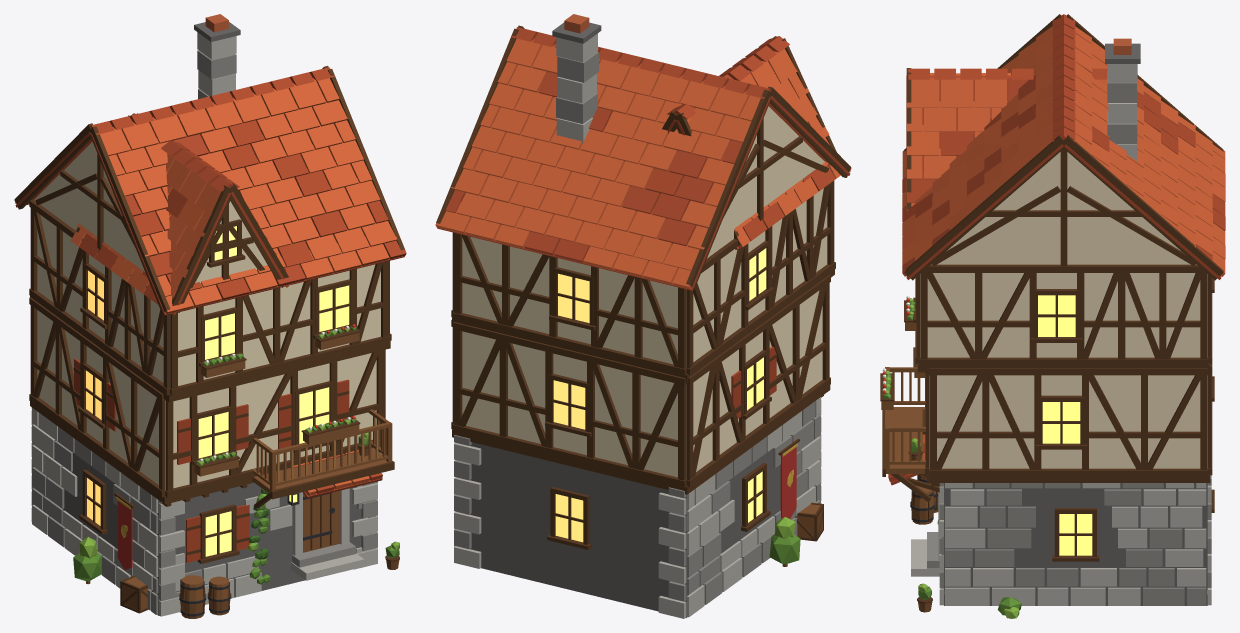
Rendered from Town_04_RedBalcony.fbx.
The picture shows the model from 3 angles, left to right: view 1: azimuth 30°, elevation 25°; view 2: azimuth 150°, elevation 25°; view 3: azimuth 270°, elevation 25°; orthographic projection. The views are drawn at different scales.
Parts seen in each view (by area): view 1: Town_04_RedBalcony_LOD0; view 2: Town_04_RedBalcony_LOD0; view 3: Town_04_RedBalcony_LOD0.
Part boxes in pixels (x1,y1,x2,y2): Town_04_RedBalcony_LOD0: [14, 14, 406, 618]; Town_04_RedBalcony_LOD0: [435, 14, 851, 618]; Town_04_RedBalcony_LOD0: [880, 14, 1225, 618].
Size of what is drawn, in the model's own units: 7.28 by 12.33 by 7.33.
